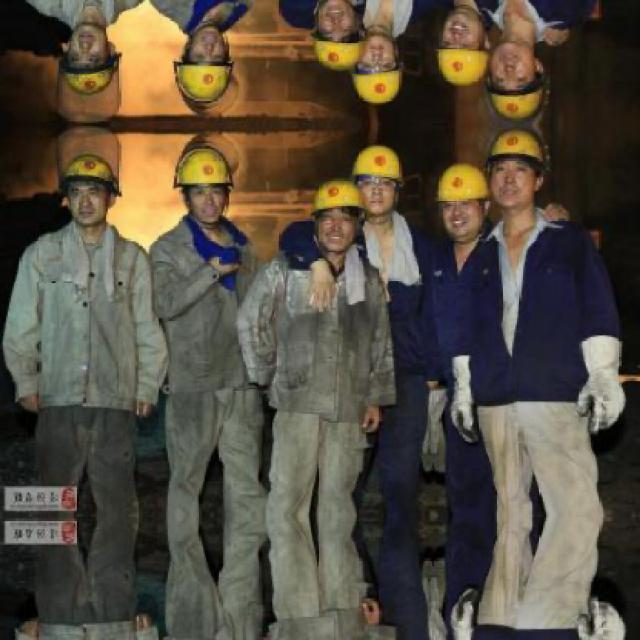helmet: (43, 131, 122, 231), (43, 17, 122, 117), (483, 128, 554, 225), (483, 23, 554, 120), (172, 21, 242, 116), (172, 132, 242, 226), (307, 0, 371, 75), (306, 172, 369, 248), (350, 138, 404, 216), (435, 15, 491, 90), (350, 31, 404, 108), (435, 157, 491, 231)
